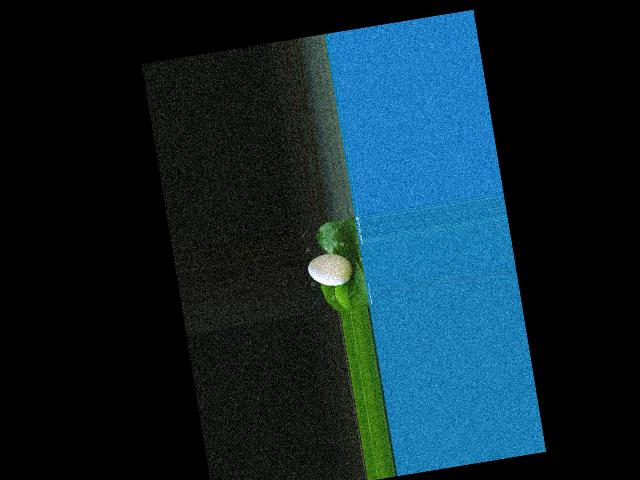egg: (306, 250, 354, 289)
